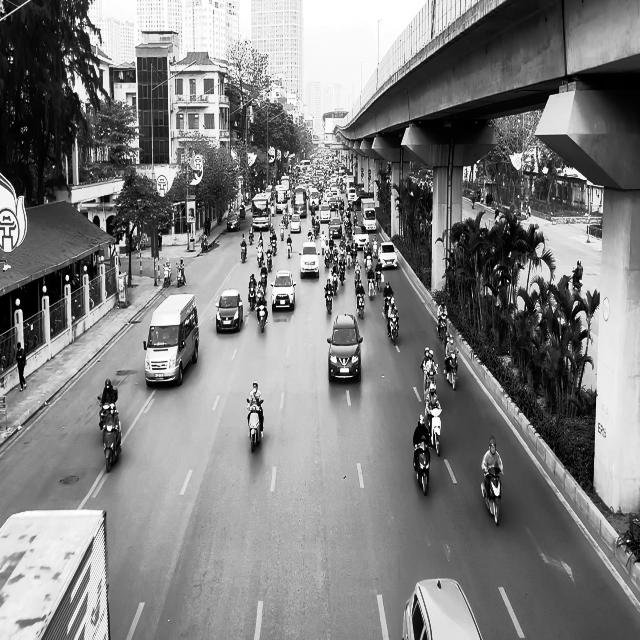car: (402, 578, 482, 640), (327, 313, 362, 382), (215, 288, 243, 333), (270, 269, 296, 311), (299, 241, 319, 279), (378, 242, 397, 268), (227, 212, 240, 231)
motorbike: (481, 466, 503, 526), (246, 396, 264, 453), (413, 438, 430, 495), (426, 407, 442, 456), (445, 348, 459, 390), (255, 300, 268, 332), (387, 312, 399, 345), (324, 285, 333, 314), (176, 264, 186, 287), (572, 268, 582, 291), (163, 265, 171, 287), (240, 244, 247, 263)
truck: (0, 508, 110, 639), (143, 293, 199, 387)
